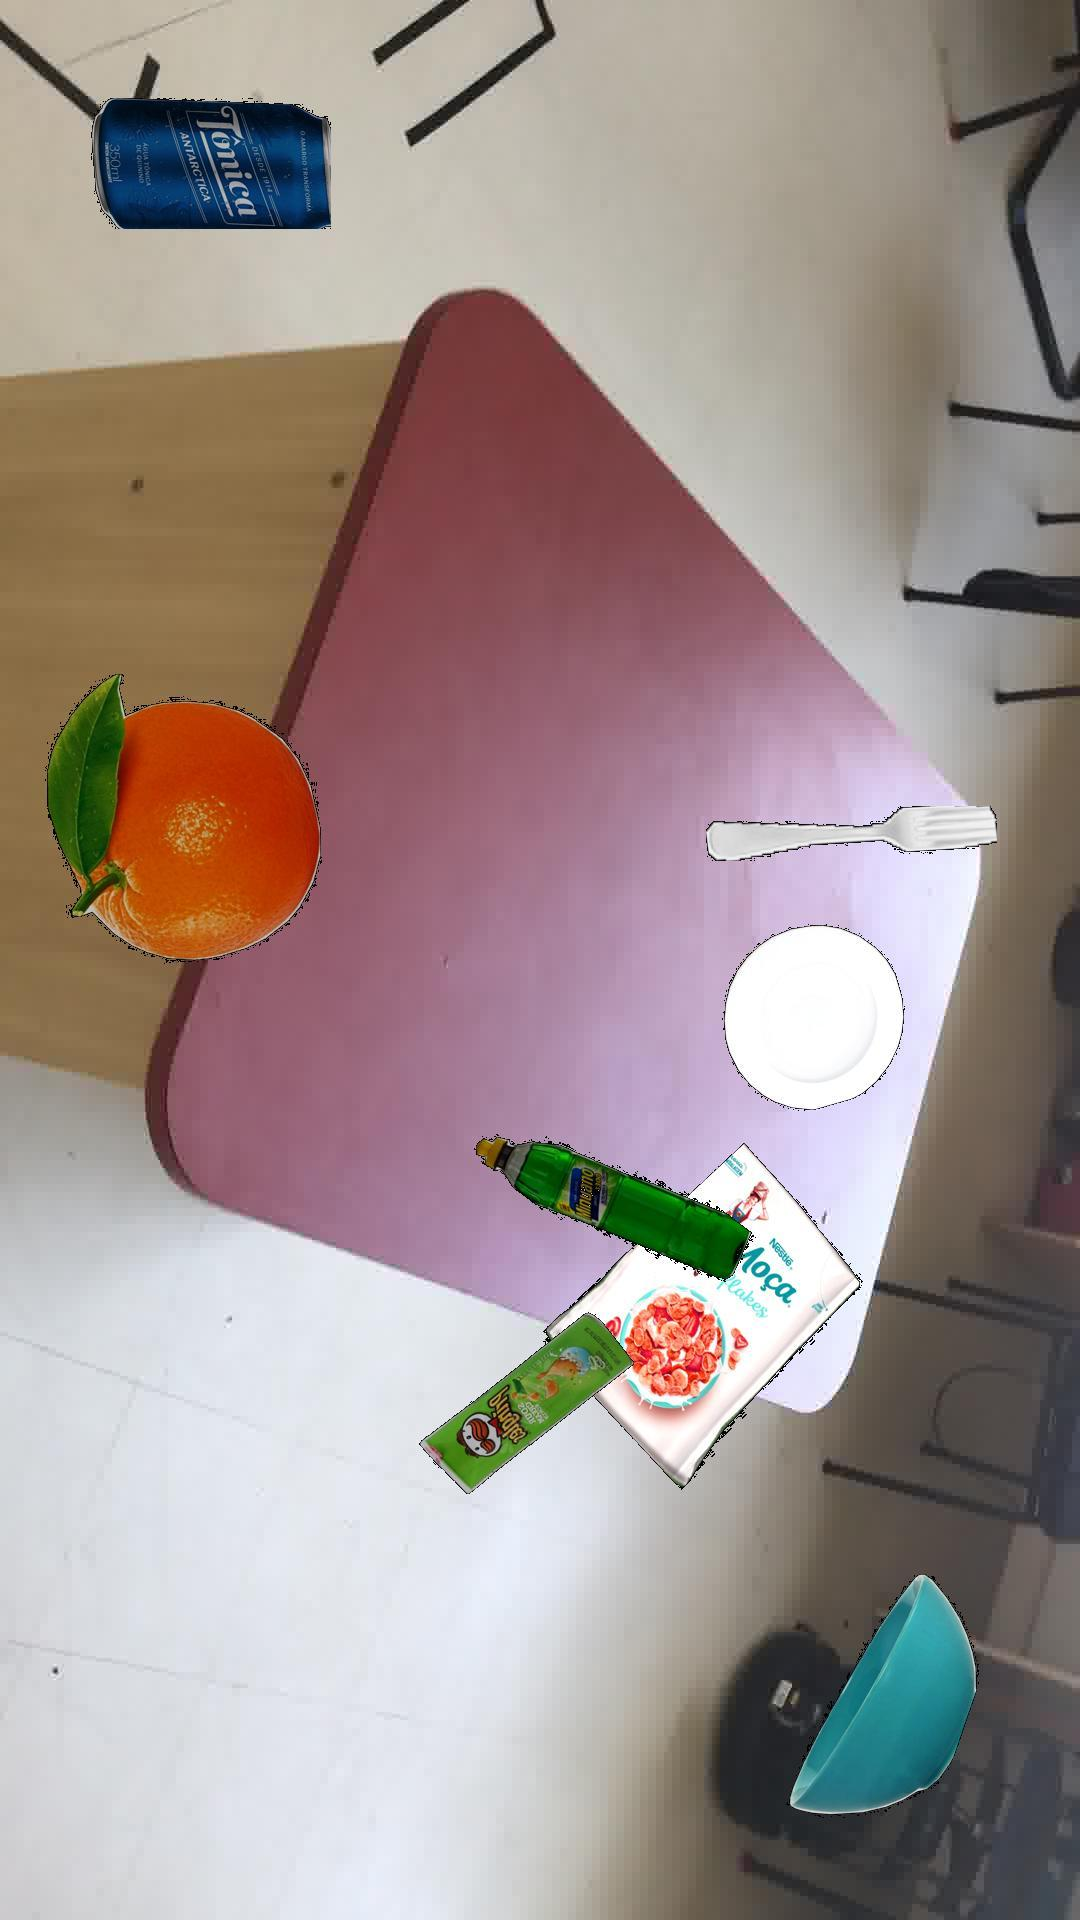bowl: (785, 1572, 977, 1813)
cleaner: (472, 1135, 752, 1280)
corn flakes: (542, 1142, 860, 1489)
fork: (704, 804, 996, 860)
orange: (46, 673, 320, 961)
plate: (721, 923, 903, 1109)
pringles: (418, 1311, 633, 1493)
tonic: (90, 96, 330, 228)
